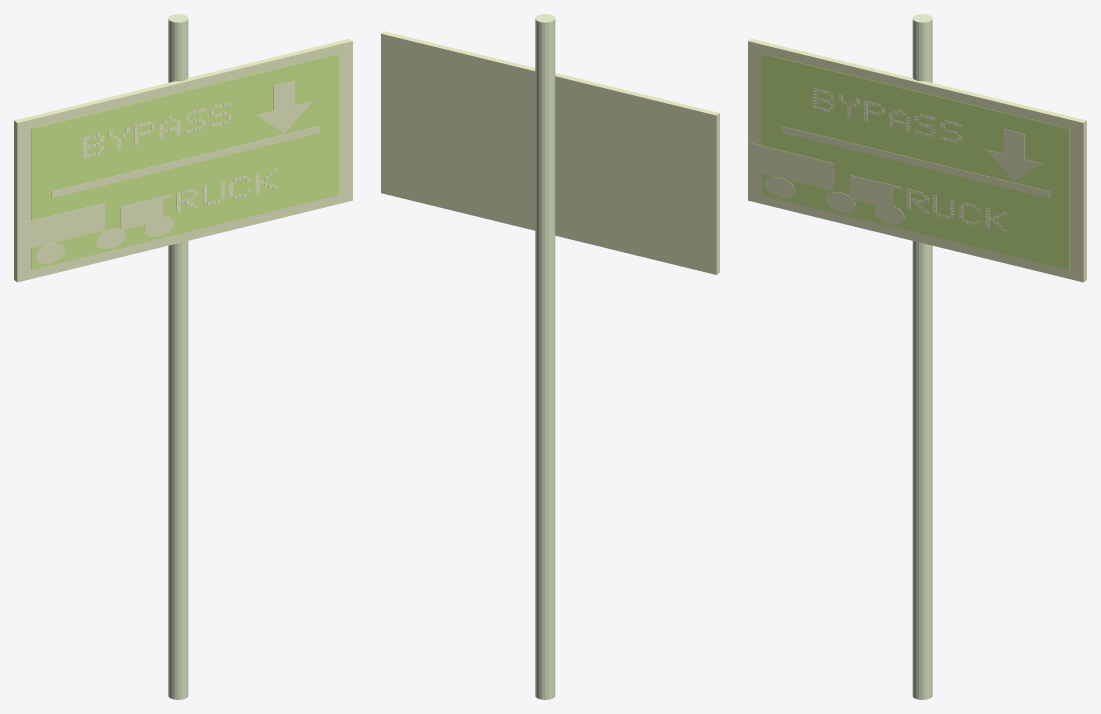
File: sign_destination_stack_truck_bypass_ahead.glb
3 renders of one model, left to right at view 1: azimuth 30°, elevation 25°; view 2: azimuth 150°, elevation 25°; view 3: azimuth 330°, elevation 25°, orthographic.
Visible parts, largest first — view 1: layer_1_00, plate_base_00, pole, layer_2_01, layer_2_00, layer_2_02, layer_2_170, layer_2_169; view 2: plate_base_00, pole; view 3: layer_1_00, plate_base_00, pole, layer_2_01, layer_2_00, layer_2_02, layer_2_170, layer_2_169.
Boxes of the visible parts, bbox=[...] form: layer_1_00: bbox=[31, 54, 338, 269]; plate_base_00: bbox=[14, 38, 352, 282]; pole: bbox=[168, 14, 188, 699]; layer_2_01: bbox=[20, 203, 104, 250]; layer_2_00: bbox=[51, 126, 319, 198]; layer_2_02: bbox=[120, 197, 162, 230]; layer_2_170: bbox=[256, 101, 312, 133]; layer_2_169: bbox=[273, 80, 294, 110]; plate_base_00: bbox=[381, 31, 719, 274]; pole: bbox=[535, 14, 555, 699]; layer_1_00: bbox=[762, 54, 1069, 269]; plate_base_00: bbox=[748, 38, 1086, 282]; pole: bbox=[912, 14, 932, 699]; layer_2_01: bbox=[749, 143, 834, 190]; layer_2_00: bbox=[781, 126, 1049, 198]; layer_2_02: bbox=[850, 175, 892, 208]; layer_2_170: bbox=[986, 149, 1042, 181]; layer_2_169: bbox=[1003, 129, 1024, 159].
Bounding box in the file's own units: 1.14 × 2.2 × 0.0725.
